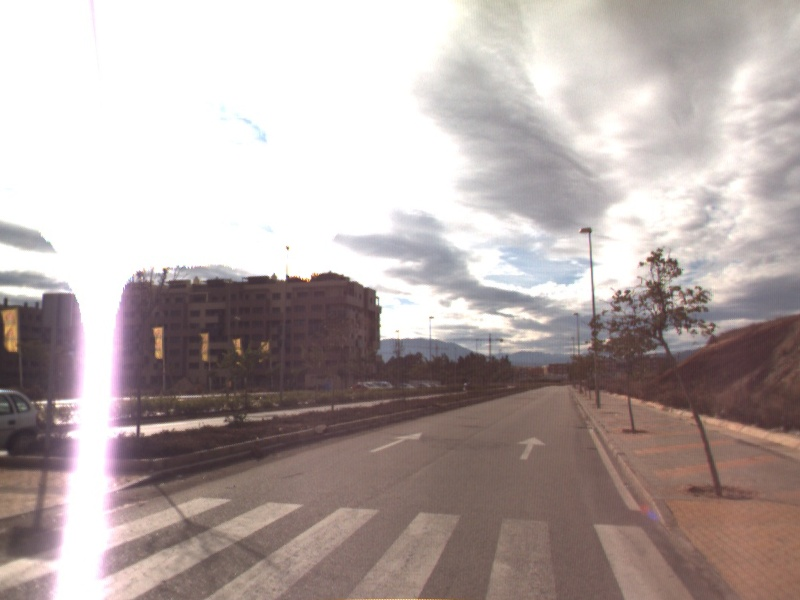STRAIGHT: (368, 430, 425, 454), (515, 434, 548, 461)
